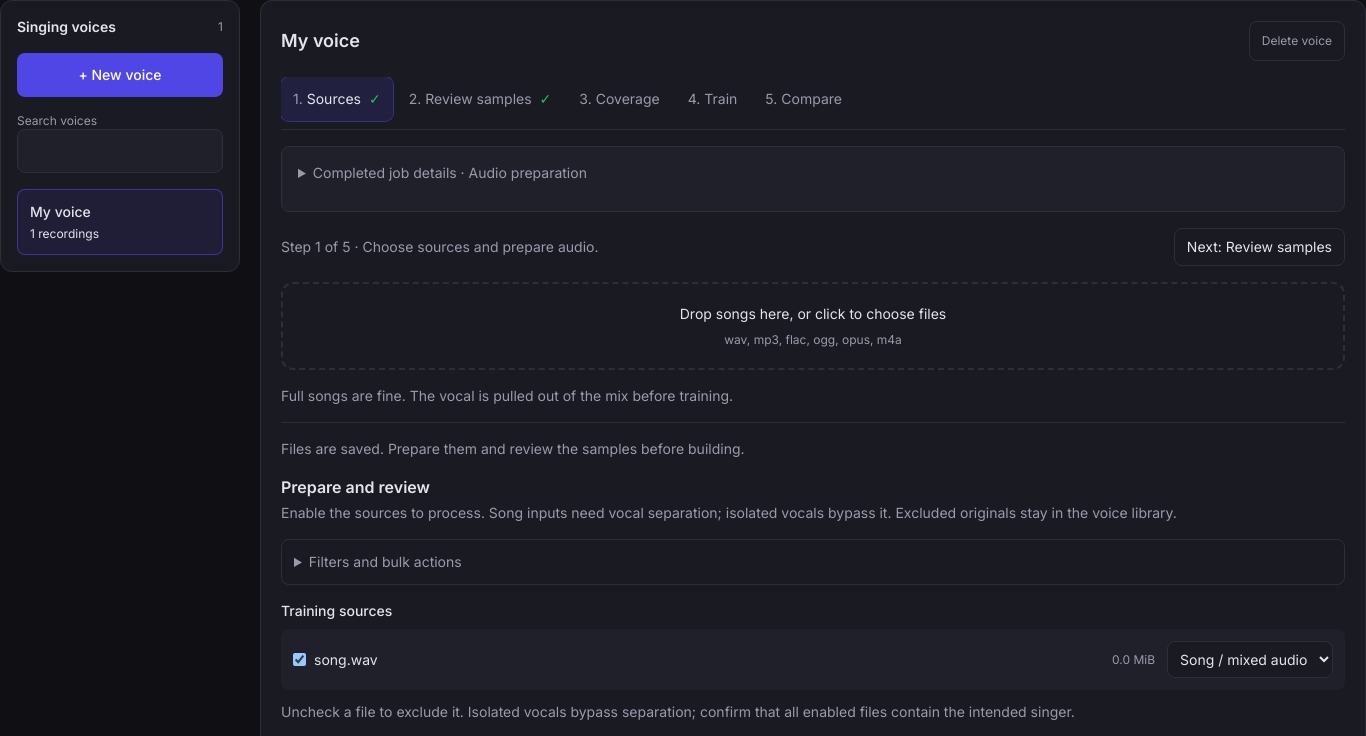
Test: hydrates completed preparation selections when the queued revision stays the same
This screenshot has width=1366, height=736.
Click the tab "2.Review samples✓".
click(480, 99)  # box [397, 77, 563, 121]
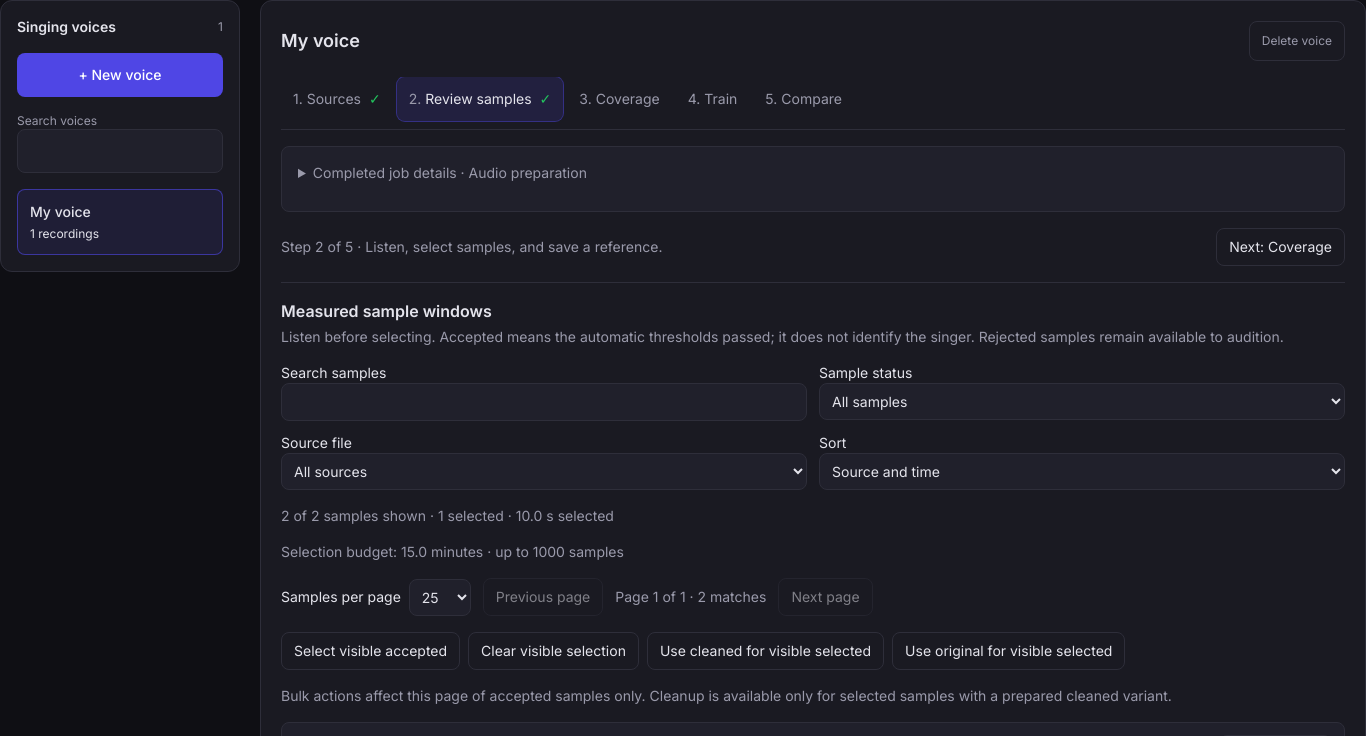
Click the tab "4.Train".
click(713, 99)  # box [676, 77, 749, 121]
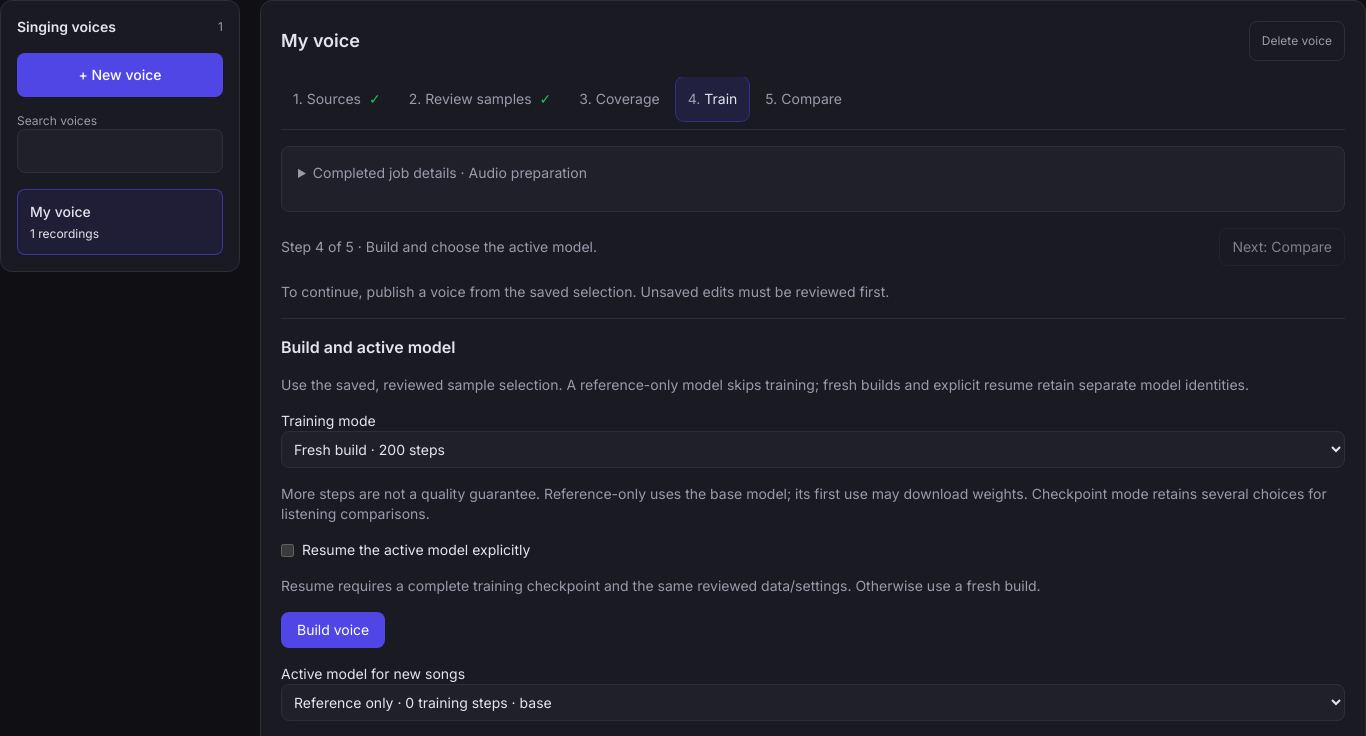
Expected: the button "Build voice" is enabled, [281, 612, 385, 648]
